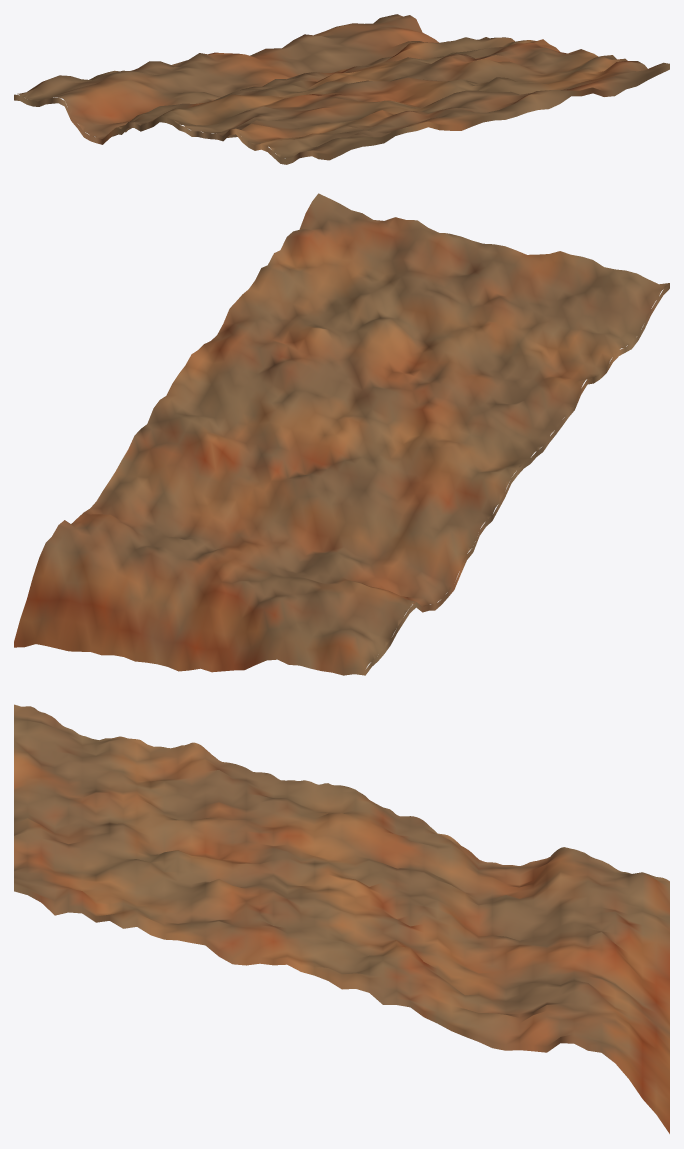
Rendered from terrain-131.glb.
3 renders of one model, top to bottom at view 1: azimuth 30°, elevation 25°; view 2: azimuth 150°, elevation 25°; view 3: azimuth 270°, elevation 25°, orthographic. The views are drawn at different scales.
Parts seen in each view (by area): view 1: terrain-131; view 2: terrain-131; view 3: terrain-131.
Part boxes in pixels (x1=…): terrain-131: x1=14, y1=14, x2=669, y2=164; terrain-131: x1=14, y1=193, x2=669, y2=675; terrain-131: x1=14, y1=704, x2=669, y2=1133.
Size of the model in its own units: 256 by 162 by 384.
